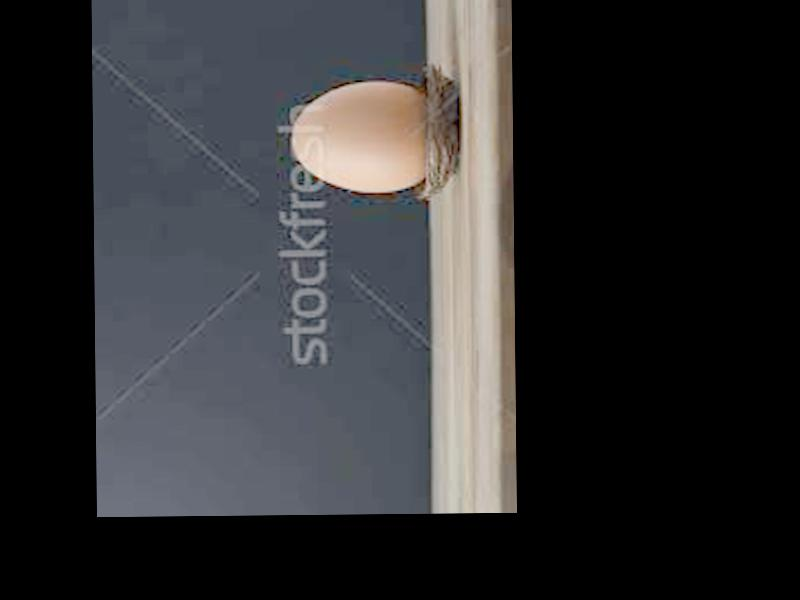Eggs: (292, 79, 428, 190)
